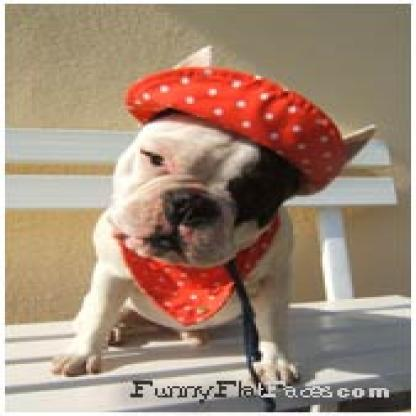French_bulldog: (41, 41, 376, 384)
